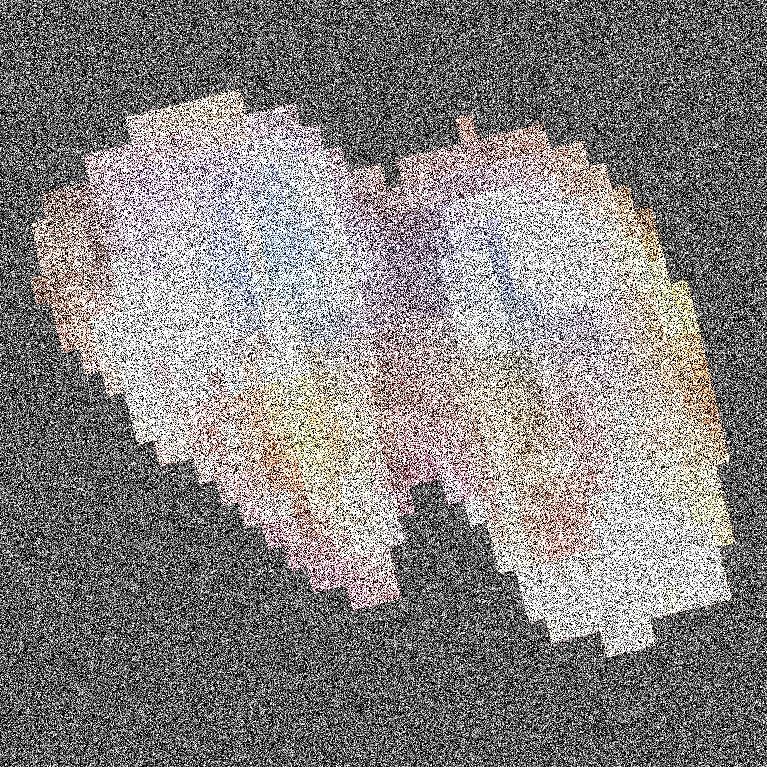Oculos: (227, 0, 766, 766)
